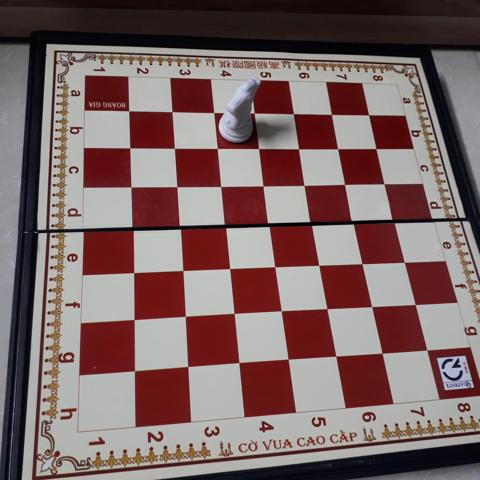xcorner: (360, 107, 377, 124), (323, 106, 340, 123), (285, 105, 302, 122), (205, 103, 222, 120), (250, 139, 267, 156), (121, 137, 138, 154), (255, 176, 272, 193), (212, 176, 229, 193), (168, 176, 185, 193), (344, 214, 361, 231), (303, 215, 320, 232), (170, 217, 187, 234), (123, 218, 140, 235), (352, 255, 369, 272), (173, 261, 190, 278), (124, 263, 141, 280), (403, 296, 420, 313), (317, 301, 334, 318), (125, 311, 142, 328), (370, 345, 387, 362), (229, 355, 246, 372), (246, 104, 262, 121), (164, 102, 180, 119), (368, 140, 384, 157), (330, 140, 346, 157), (291, 139, 307, 156), (209, 138, 225, 155), (166, 138, 182, 155), (376, 176, 392, 193), (337, 176, 353, 193), (297, 176, 313, 193), (122, 177, 139, 193), (384, 214, 401, 230), (260, 216, 277, 232), (216, 217, 233, 233), (393, 254, 410, 270), (266, 258, 282, 275), (220, 260, 237, 276), (361, 299, 378, 315), (272, 303, 288, 320), (176, 308, 192, 325), (414, 342, 430, 359), (325, 348, 341, 365), (278, 352, 295, 368), (179, 359, 195, 376), (126, 363, 143, 379), (121, 101, 137, 117), (310, 257, 326, 273), (225, 306, 241, 322)
